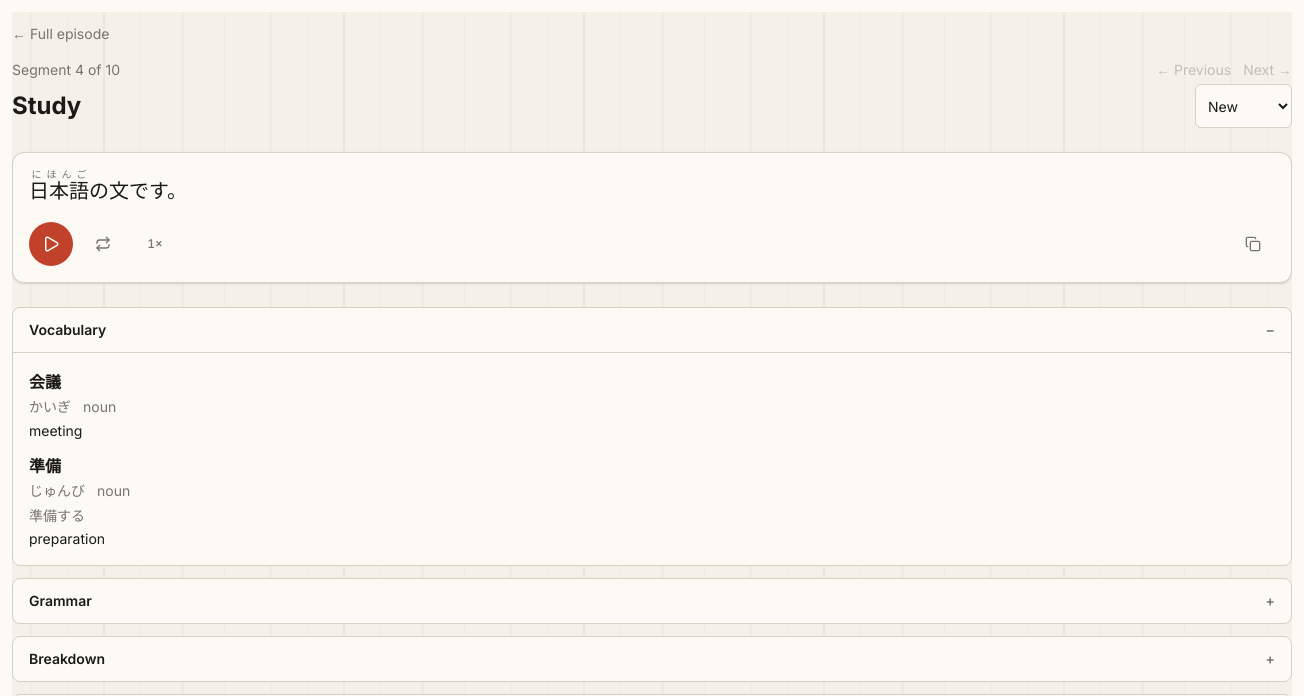
StudyScreen › hides the reading for a structure item when it matches the pattern text
Click the button "Grammar +". click: (60, 600)
box: [13,579,1291,623]
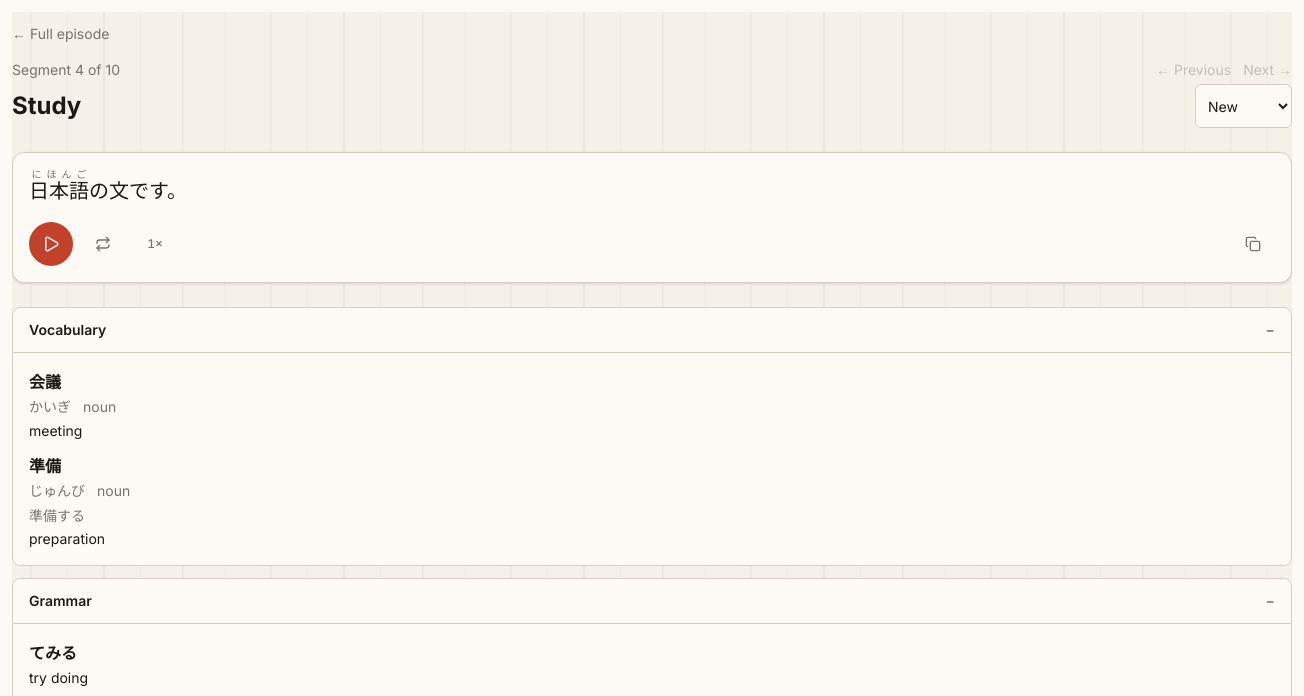
Now the text "てみる" is shown once, box [29,640,77,664]
